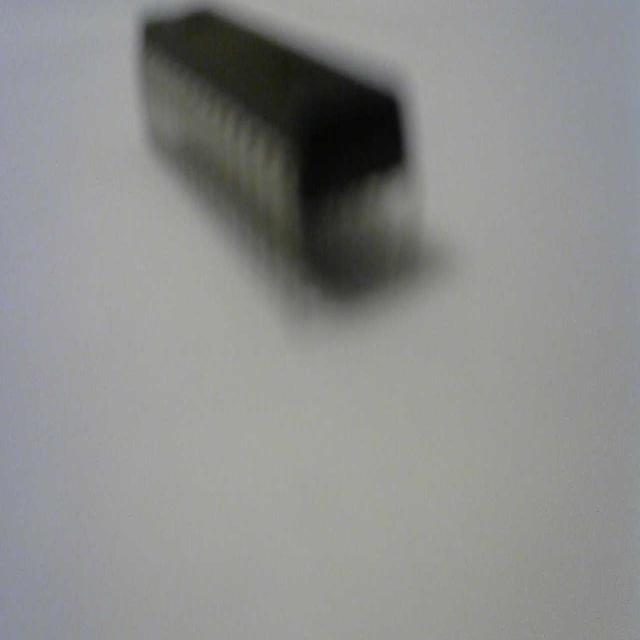atmega: (135, 5, 429, 308)
